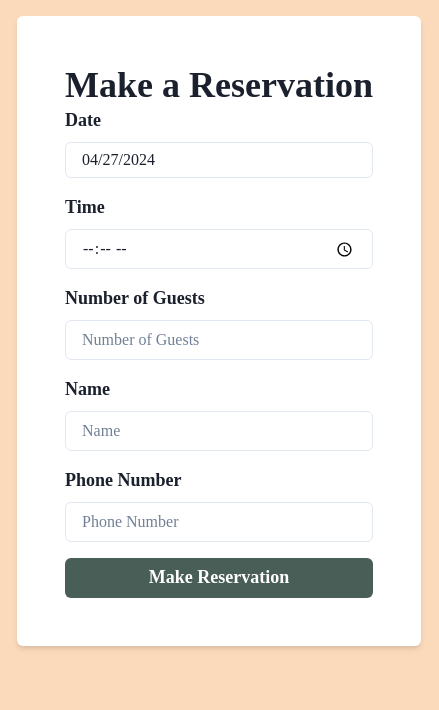
Test: check if clicking submit will show 'Required'
(page scrolled)
# Simulate a click on the button
Click the button "Make Reservation" at (219, 578), box [65, 558, 373, 598]
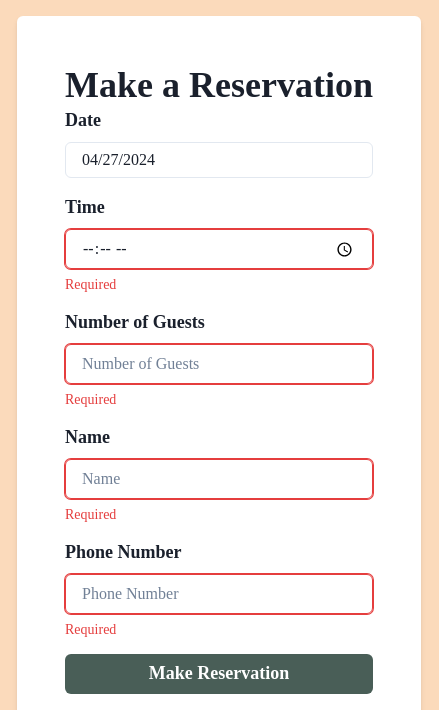
Expected: the text "Required" is shown 4 times, [65, 277, 116, 292]; [65, 392, 116, 407]; [65, 507, 116, 522]; [65, 622, 116, 637]
